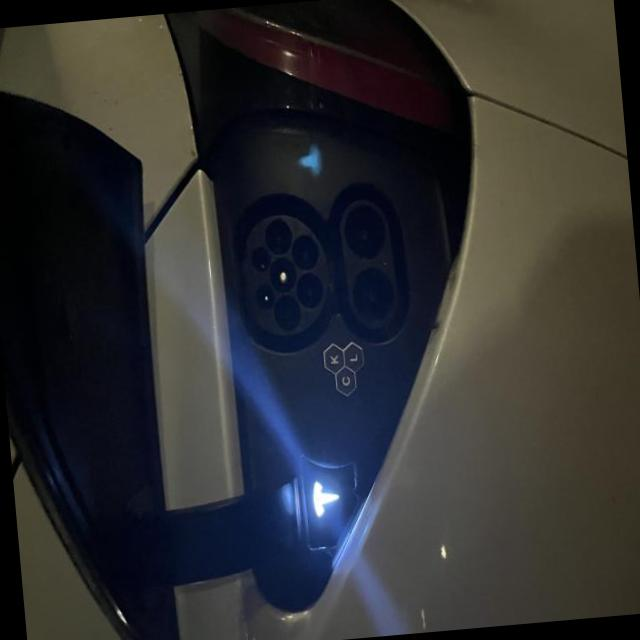inlet: (245, 213, 329, 335)
inlet-above-left: (255, 283, 274, 309)
inlet-above-right: (250, 246, 269, 273)
inlet-below-left: (295, 272, 323, 308)
inlet-below-right: (291, 233, 318, 269)
inlet-center: (269, 256, 296, 293)
inlet-center-left: (273, 295, 300, 331)
inlet-center-right: (263, 217, 292, 254)
